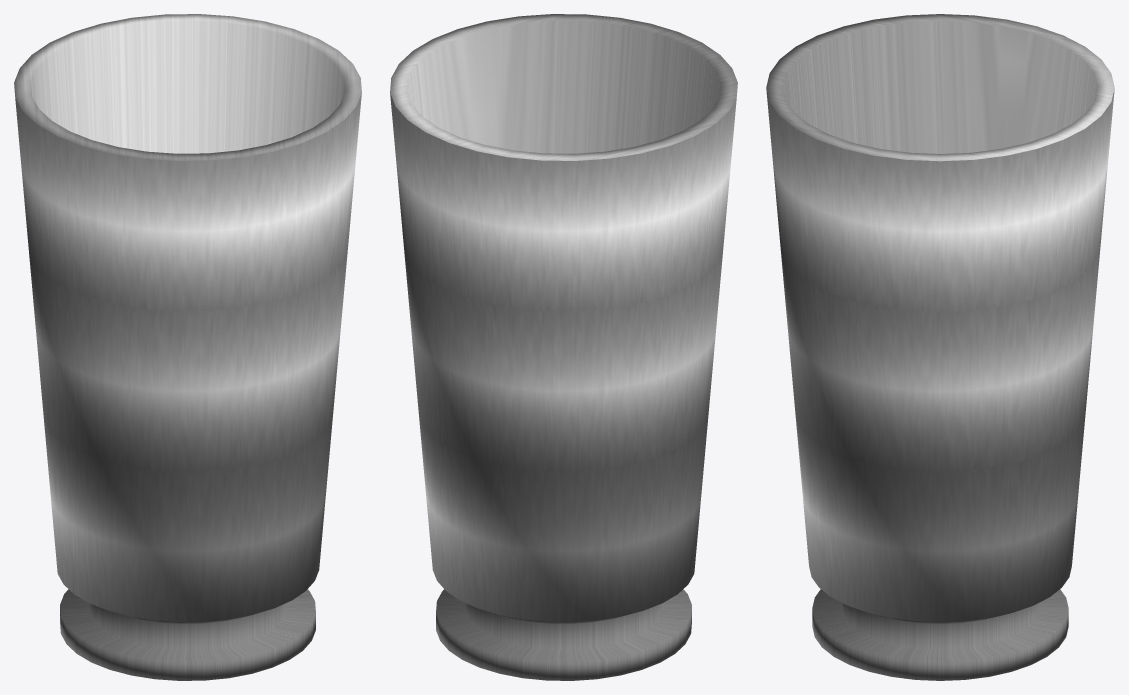
The model's file is Glass.fbx.
The picture shows the model from 3 angles, left to right: view 1: azimuth 30°, elevation 25°; view 2: azimuth 150°, elevation 25°; view 3: azimuth 270°, elevation 25°; orthographic projection.
Parts seen in each view (by area): view 1: Circle; view 2: Circle; view 3: Circle.
Boxes of the visible parts, left/top/right/bottom form: Circle: left=14, top=14, right=361, bottom=680; Circle: left=390, top=14, right=737, bottom=680; Circle: left=766, top=14, right=1114, bottom=680.
Bounding box in the file's own units: 29.39 × 50.17 × 29.39.
1 material, 1 textured.
